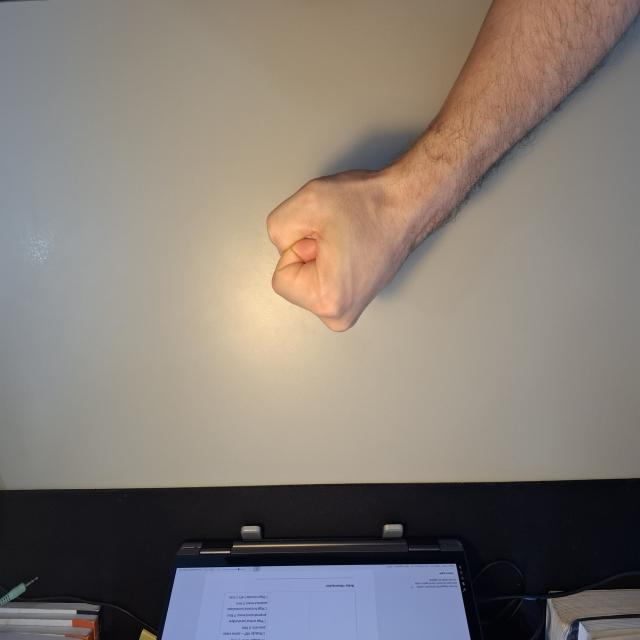glove_off: (264, 166, 429, 334)
